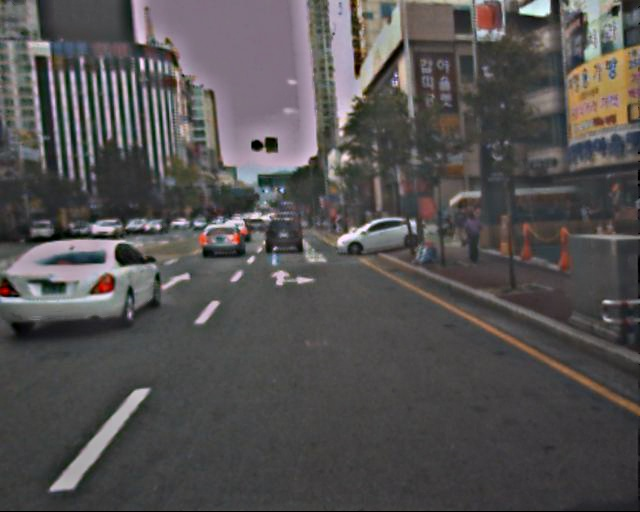person: (462, 210, 484, 264), (453, 201, 472, 248)
